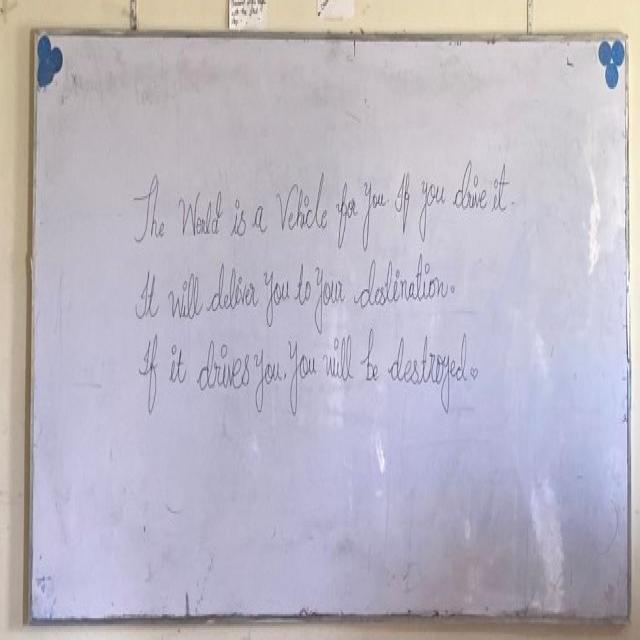White-board: (30, 33, 629, 618)
